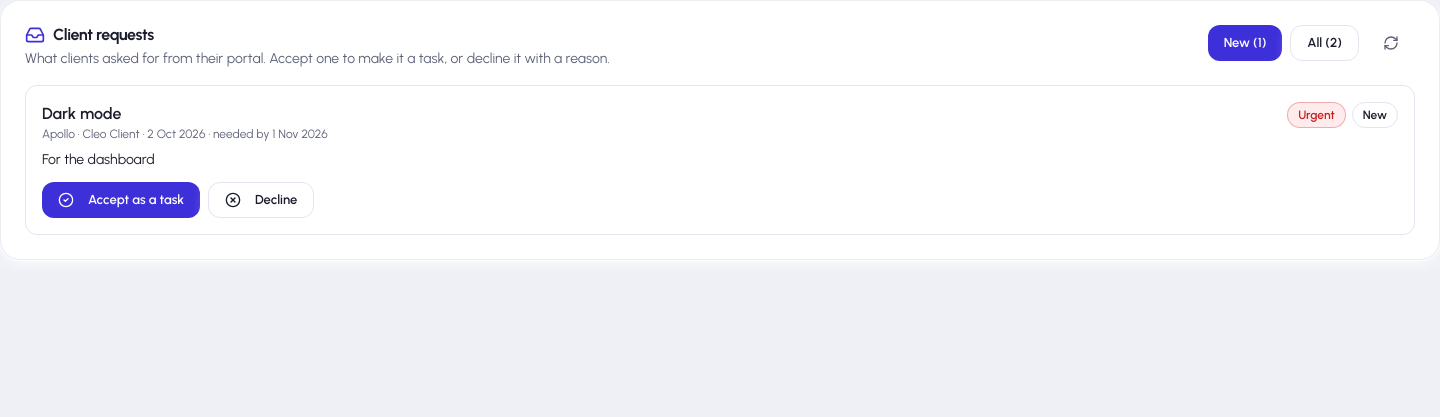
Test: ClientRequestsInbox › All shows answered requests with the answer
This screenshot has width=1440, height=417.
Expected: the heading "Dark mode" is shown, [42,104,122,123]
Click the button "All (2)".
click(1325, 43)  # box [1290,25,1359,61]
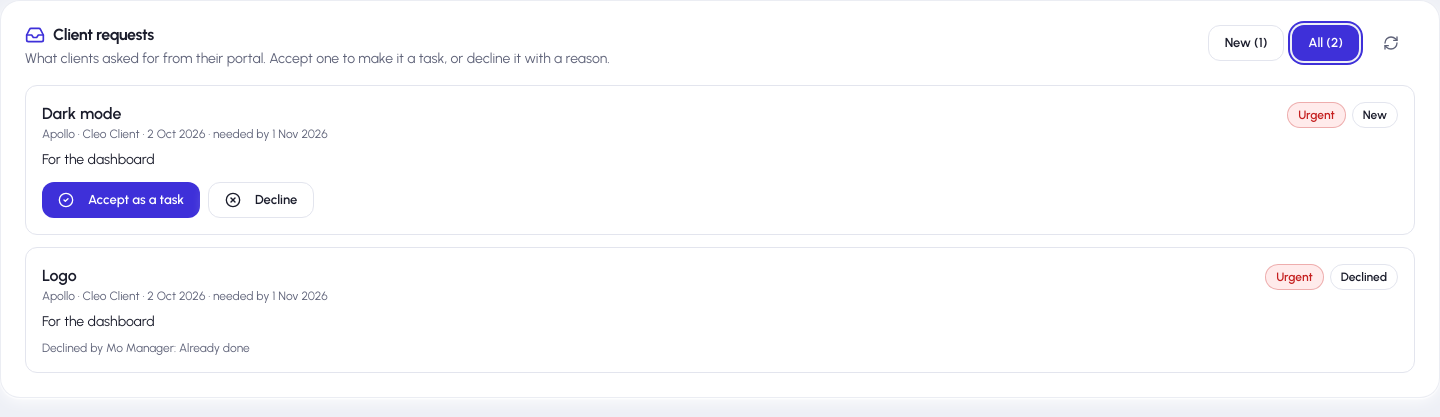
Expected: the list item that starts with "Logo" shows "Declined by Mo Manager", [25,247,1415,373]
